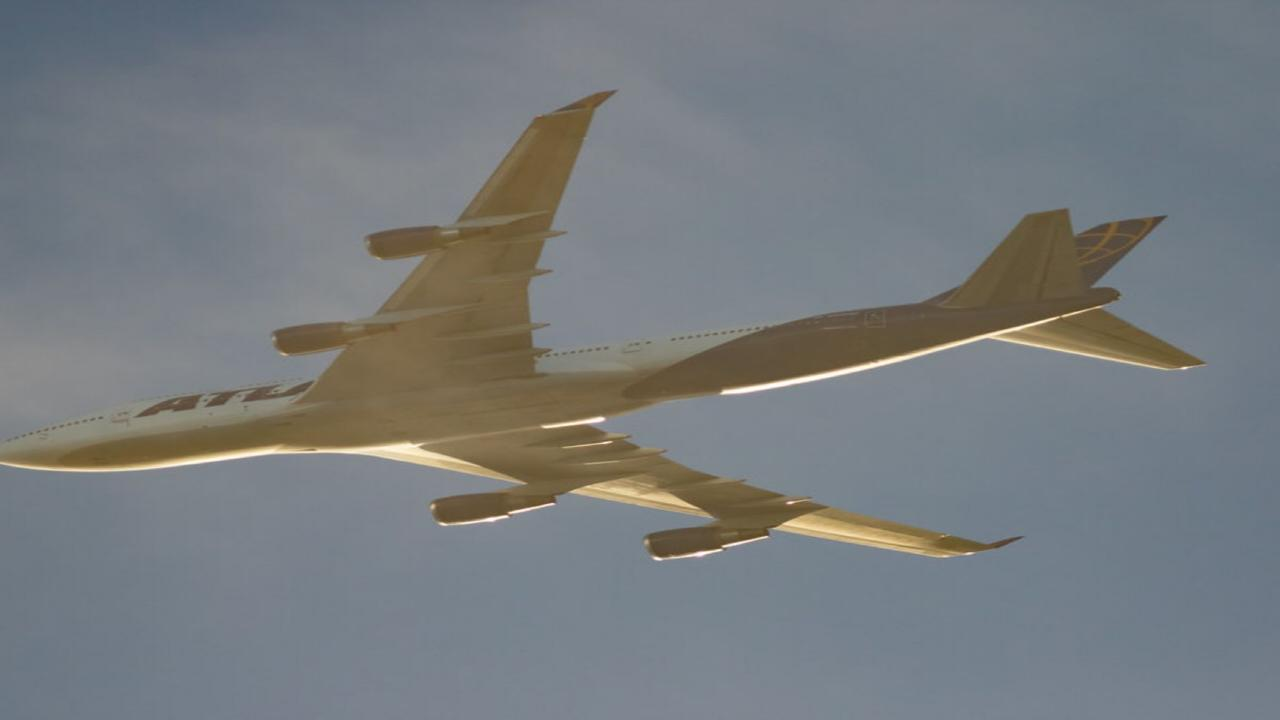Airplane: (0, 73, 1220, 569)
